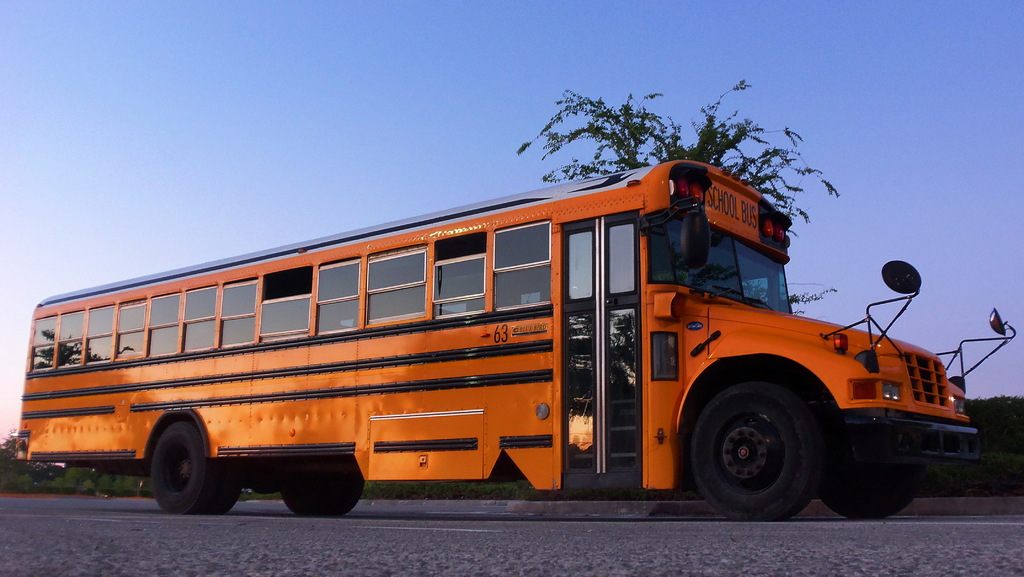Bus: (10, 159, 1018, 523)
